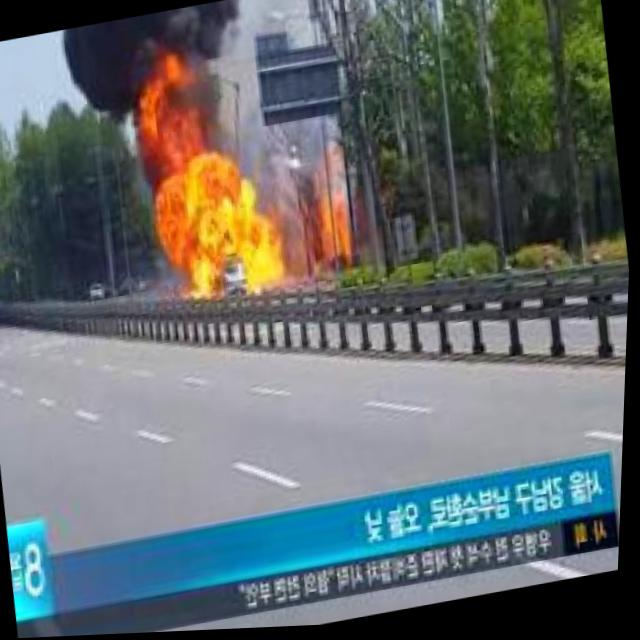Fire: (171, 155, 253, 296), (241, 204, 285, 293), (324, 204, 358, 270)
